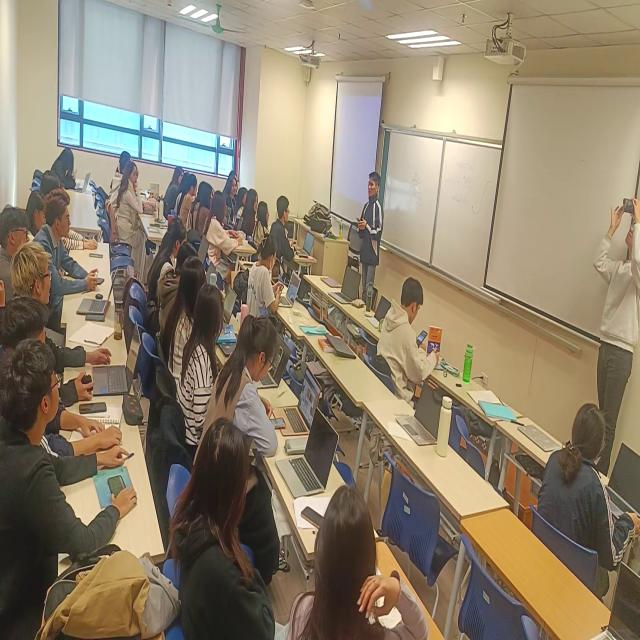raise_head: (1, 322, 134, 640), (162, 417, 284, 635), (277, 480, 431, 640), (175, 284, 232, 442), (165, 255, 208, 375), (6, 233, 60, 313), (1, 294, 58, 367), (1, 204, 35, 307), (112, 159, 147, 257), (267, 195, 301, 266), (163, 167, 186, 217), (251, 200, 272, 253), (173, 172, 192, 227), (242, 189, 261, 239), (233, 186, 250, 230), (225, 176, 240, 219), (229, 171, 239, 183)
stand: (589, 196, 640, 483), (353, 168, 387, 318)
using_computer: (536, 394, 640, 595)
using_phone: (194, 312, 291, 476), (377, 270, 443, 408), (49, 145, 79, 198), (42, 170, 65, 199), (60, 180, 67, 195)
